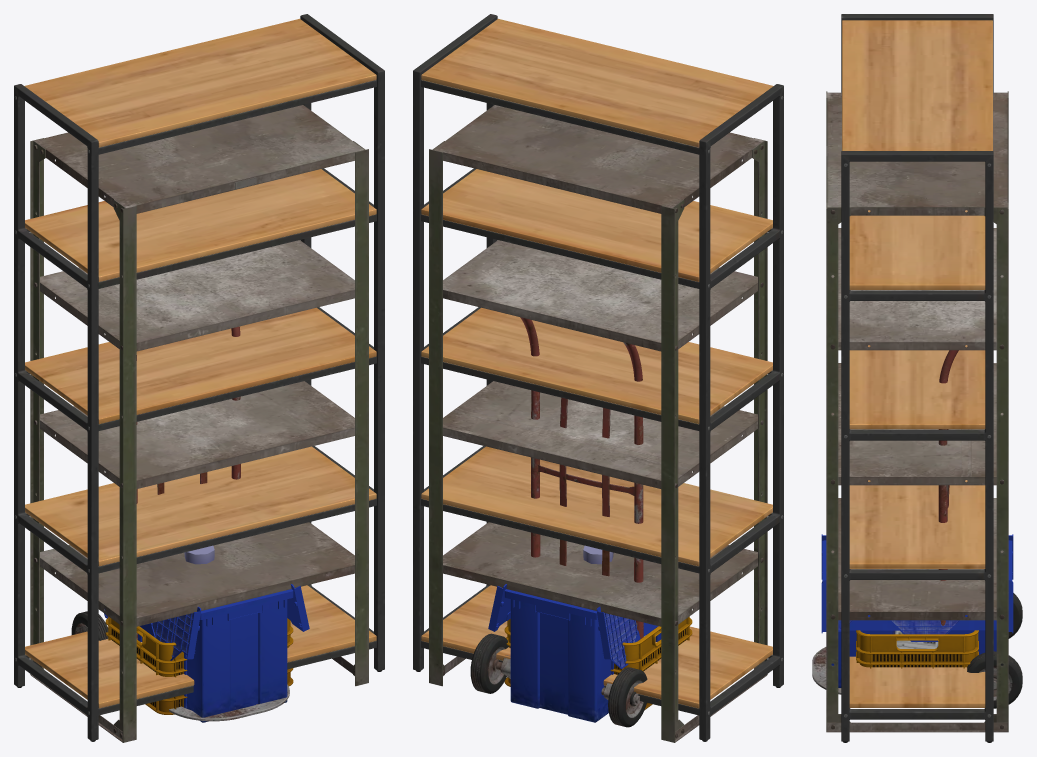
The model's file is factory.glb.
The picture shows the model from 3 angles, left to right: view 1: azimuth 30°, elevation 25°; view 2: azimuth 150°, elevation 25°; view 3: azimuth 270°, elevation 25°; orthographic projection.
Parts seen in each view (by area): view 1: steel_frame_shelves_01, worn_metal_rack, industrial_pastic_container, plastic_crate_02, hand_truck, industrial_pastic_container_lid_b, industrial_pastic_container_lid_a; view 2: steel_frame_shelves_01, worn_metal_rack, industrial_pastic_container, hand_truck, plastic_crate_02, industrial_pastic_container_lid_b, industrial_pastic_container_lid_a; view 3: steel_frame_shelves_01, worn_metal_rack, plastic_crate_02, hand_truck, industrial_pastic_container_lid_a, industrial_pastic_container.
Part boxes in pixels (x1=…): steel_frame_shelves_01: x1=14, y1=14, x2=384, y2=741; worn_metal_rack: x1=30, y1=105, x2=368, y2=742; industrial_pastic_container: x1=138, y1=589, x2=293, y2=722; plastic_crate_02: x1=105, y1=616, x2=293, y2=714; hand_truck: x1=71, y1=326, x2=289, y2=721; industrial_pastic_container_lid_b: x1=104, y1=606, x2=201, y2=660; industrial_pastic_container_lid_a: x1=287, y1=584, x2=309, y2=631; steel_frame_shelves_01: x1=413, y1=14, x2=783, y2=741; worn_metal_rack: x1=429, y1=105, x2=767, y2=742; industrial_pastic_container: x1=504, y1=589, x2=661, y2=722; hand_truck: x1=470, y1=317, x2=647, y2=727; plastic_crate_02: x1=504, y1=616, x2=692, y2=710; industrial_pastic_container_lid_b: x1=596, y1=606, x2=657, y2=669; industrial_pastic_container_lid_a: x1=488, y1=584, x2=510, y2=631; steel_frame_shelves_01: x1=841, y1=14, x2=993, y2=742; worn_metal_rack: x1=826, y1=91, x2=1008, y2=732; plastic_crate_02: x1=856, y1=630, x2=978, y2=668; hand_truck: x1=812, y1=350, x2=1022, y2=708; industrial_pastic_container_lid_a: x1=821, y1=580, x2=1013, y2=641; industrial_pastic_container: x1=822, y1=540, x2=1012, y2=687.
Bounding box in the file's own units: 1.1 × 2.14 × 0.6925.
Materials: 6 (6 with a texture image).
